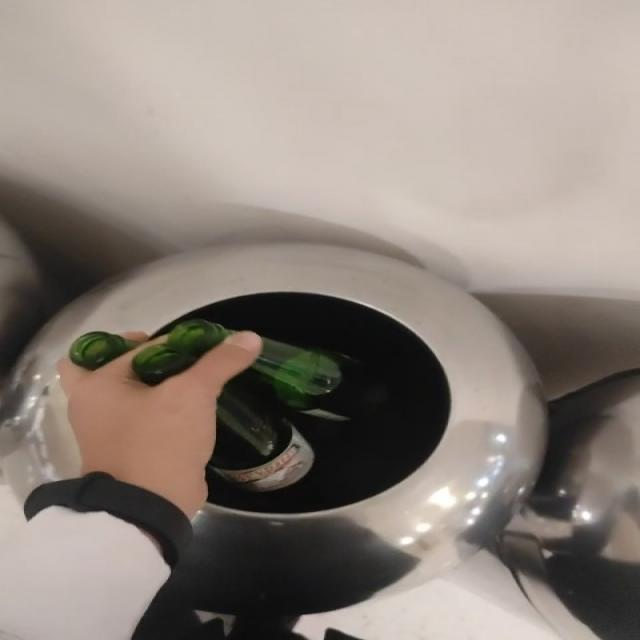glass: (209, 338, 344, 491), (133, 319, 235, 385), (71, 332, 132, 370)
